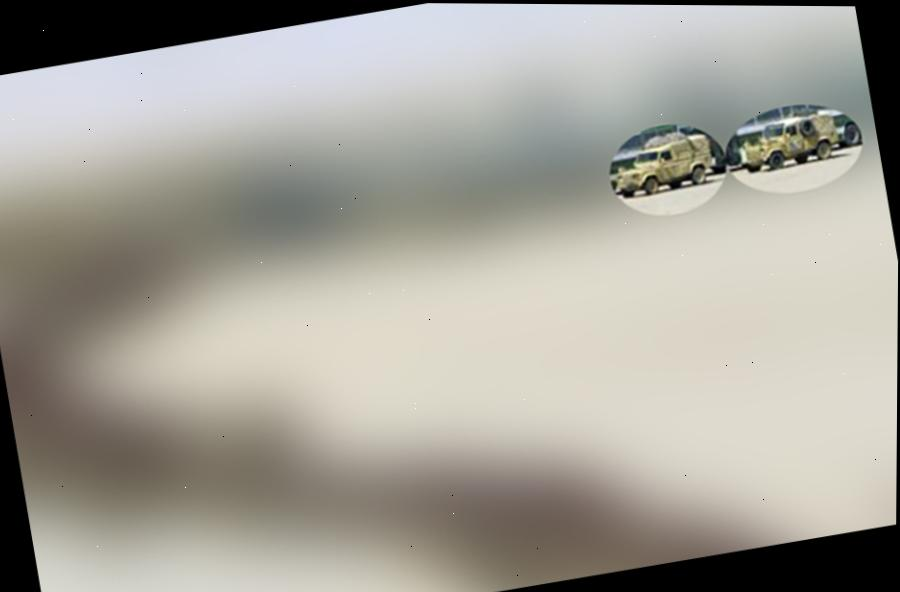armored_car: (603, 121, 722, 201), (728, 96, 844, 177)
